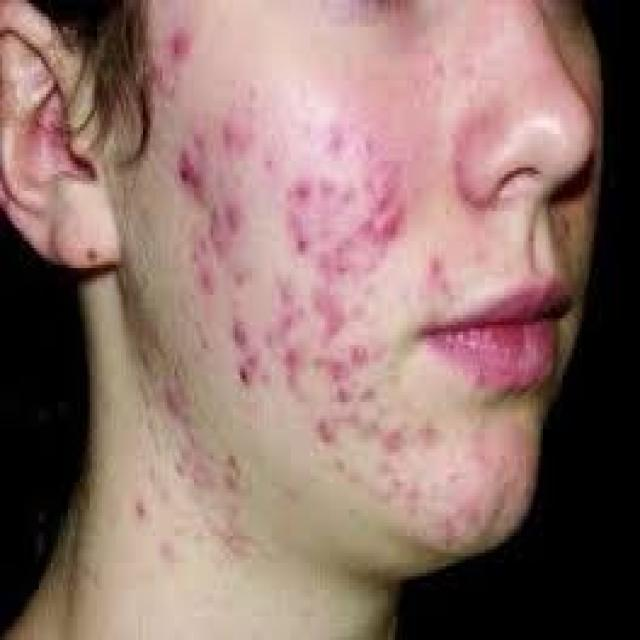Acne: (276, 270, 308, 340), (311, 292, 344, 351), (359, 200, 404, 242), (366, 160, 403, 210), (317, 235, 353, 286), (189, 235, 216, 300), (222, 116, 252, 160), (174, 146, 202, 192), (319, 173, 356, 207), (166, 22, 195, 64), (283, 173, 315, 210), (312, 353, 348, 382), (222, 196, 246, 238), (236, 351, 261, 391), (380, 424, 408, 456), (229, 311, 250, 350), (315, 415, 340, 447), (290, 227, 314, 260), (348, 342, 373, 372), (281, 344, 304, 374), (326, 382, 356, 405), (425, 254, 444, 289)
